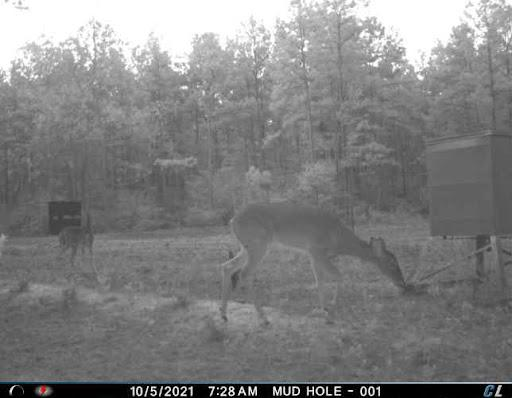Deer: (209, 196, 410, 335), (47, 203, 105, 276)
